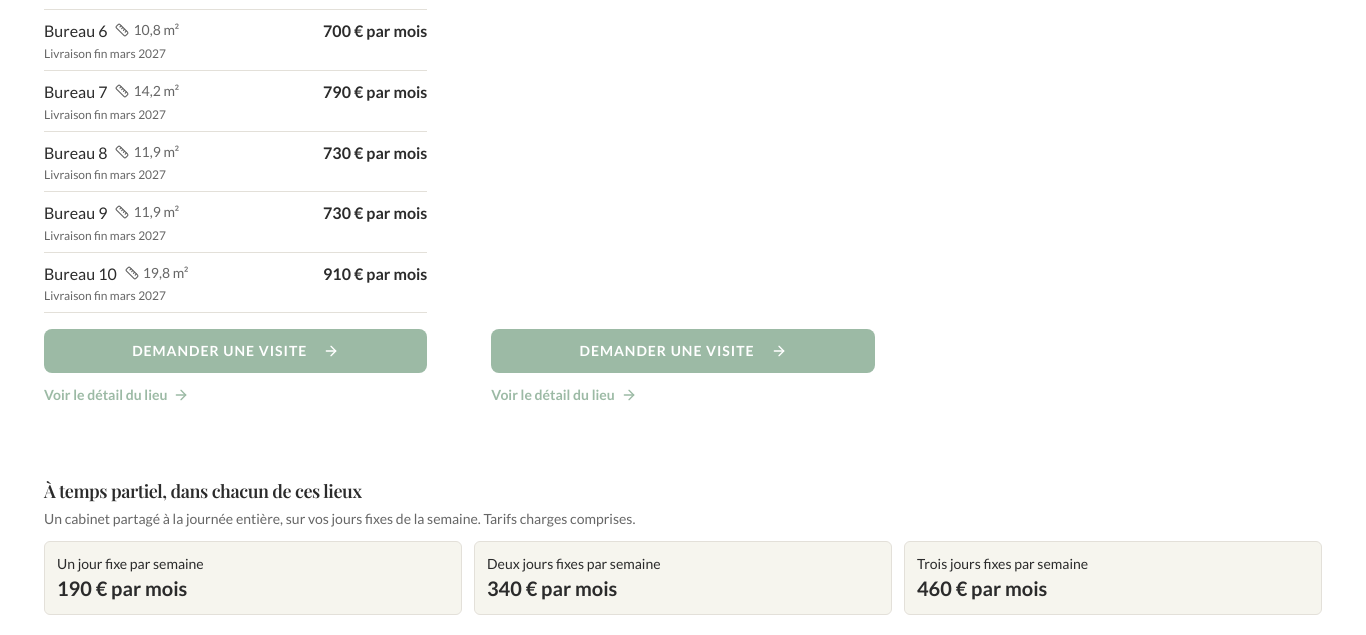
Scenario: demande de visite › F2 le bouton d'une carte preselectionne son lieu
The image size is (1366, 635).
(page scrolled)
Click the 2nd link "Demander une visite": x=683, y=351 [491,329,875,373]
(page scrolled)
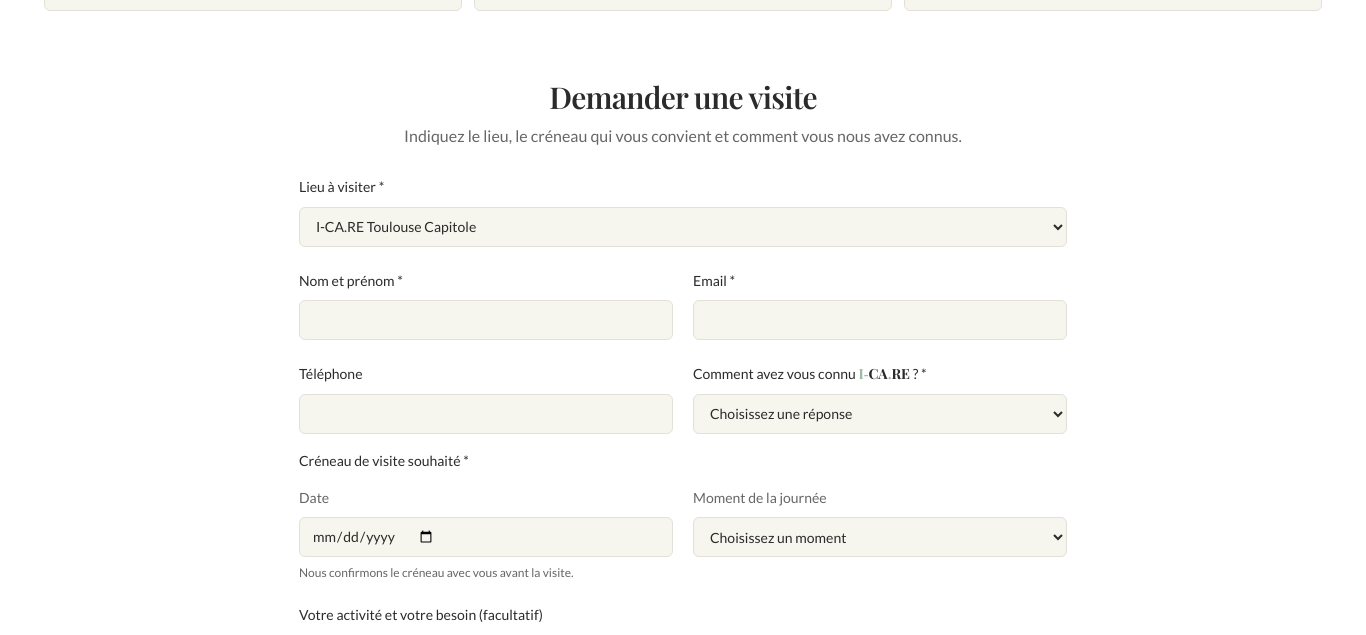
Result: the dropdown labelled "Lieu à visiter *" shows "I‑CA.RE Toulouse Capitole" at [299,206,1067,246]
